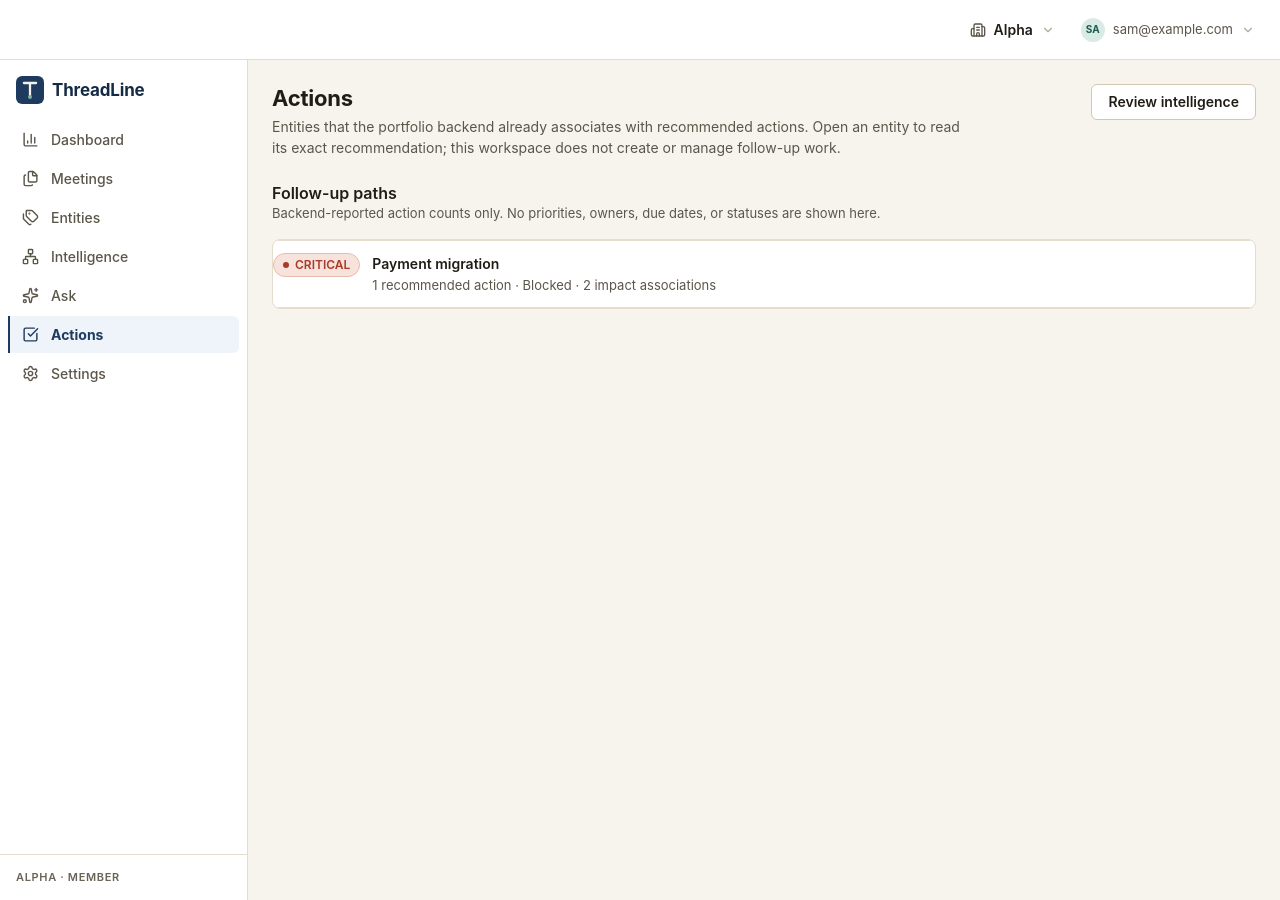
actions workspace › switches follow-up paths with the organisation
Expected: the link "Payment migration" is shown, [372, 255, 499, 272]
What coordinates should you click on to do the following:
click the button with aria-label "switch organisation"
I would click on:
 (1012, 30)
Its box is [970, 21, 1055, 38].
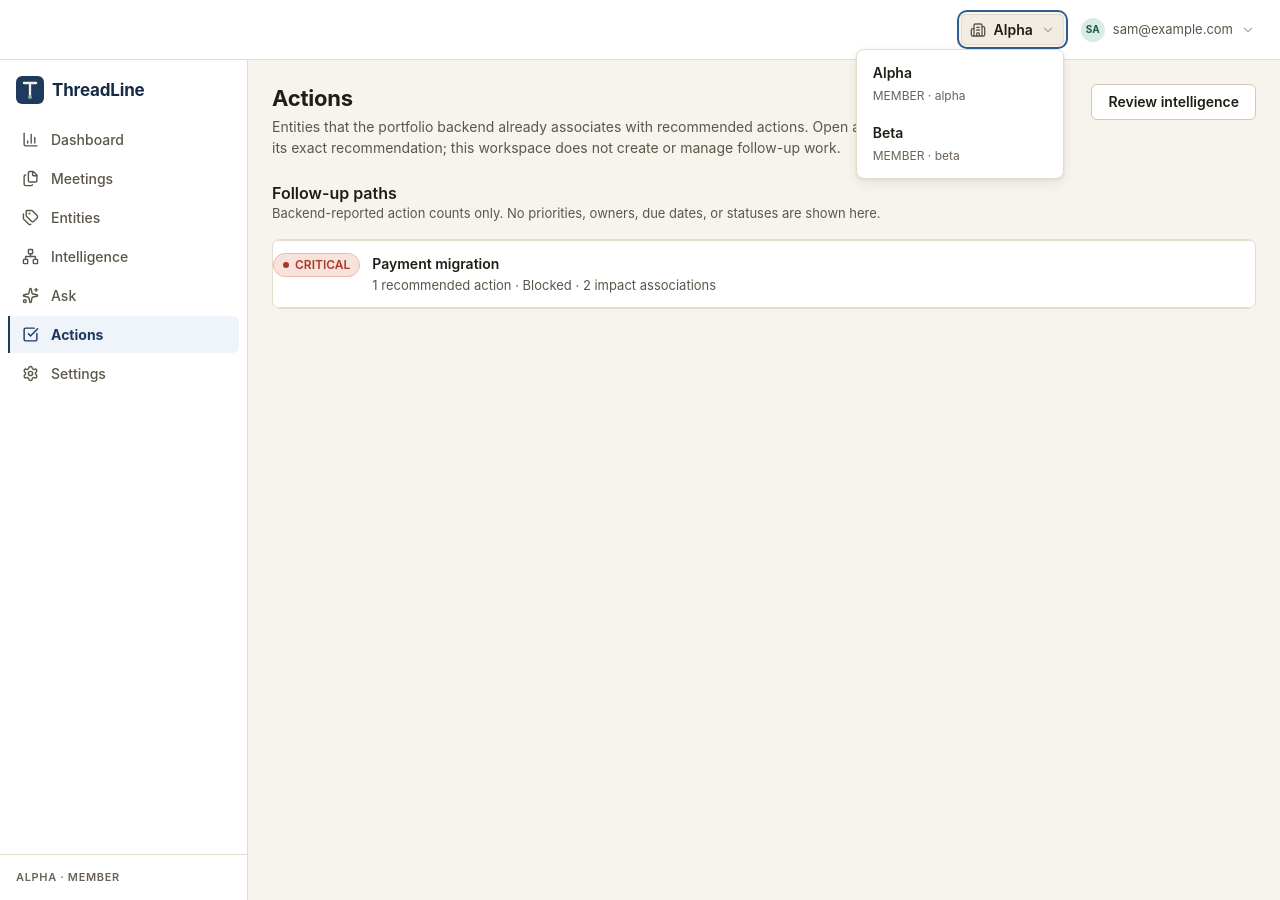
What coordinates should you click on to do the following:
click the menu item "Beta MEMBER · beta"
I would click on:
 (960, 144)
Its box is [861, 114, 1059, 174].
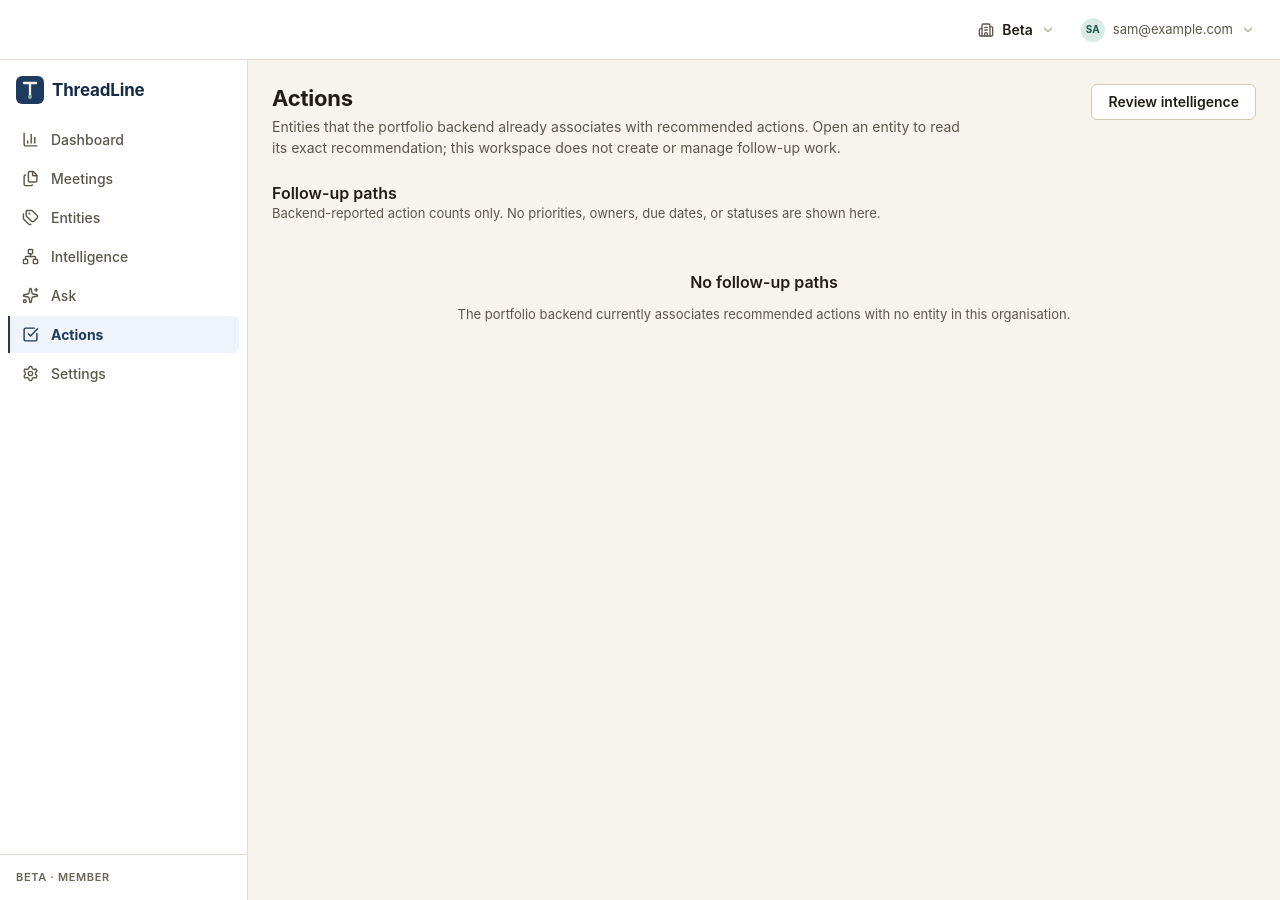
Result: the heading "No follow-up paths" is shown at [690, 271, 838, 293]
Result: the link "Payment migration" is gone
